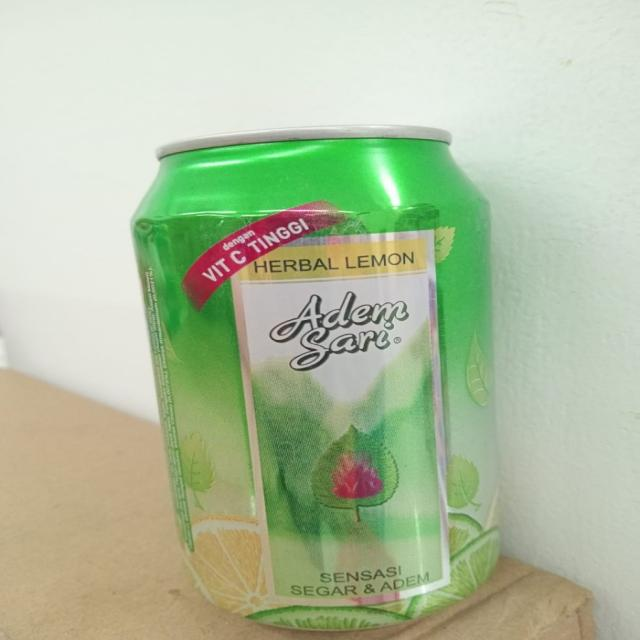ademsarikaleng: (128, 123, 503, 631)
